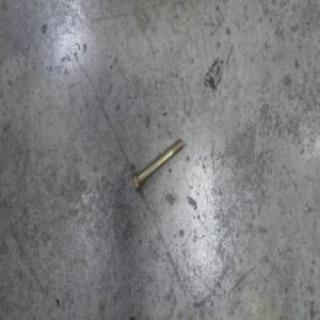Bolttrack_idkeyframe: (130, 134, 183, 195)
